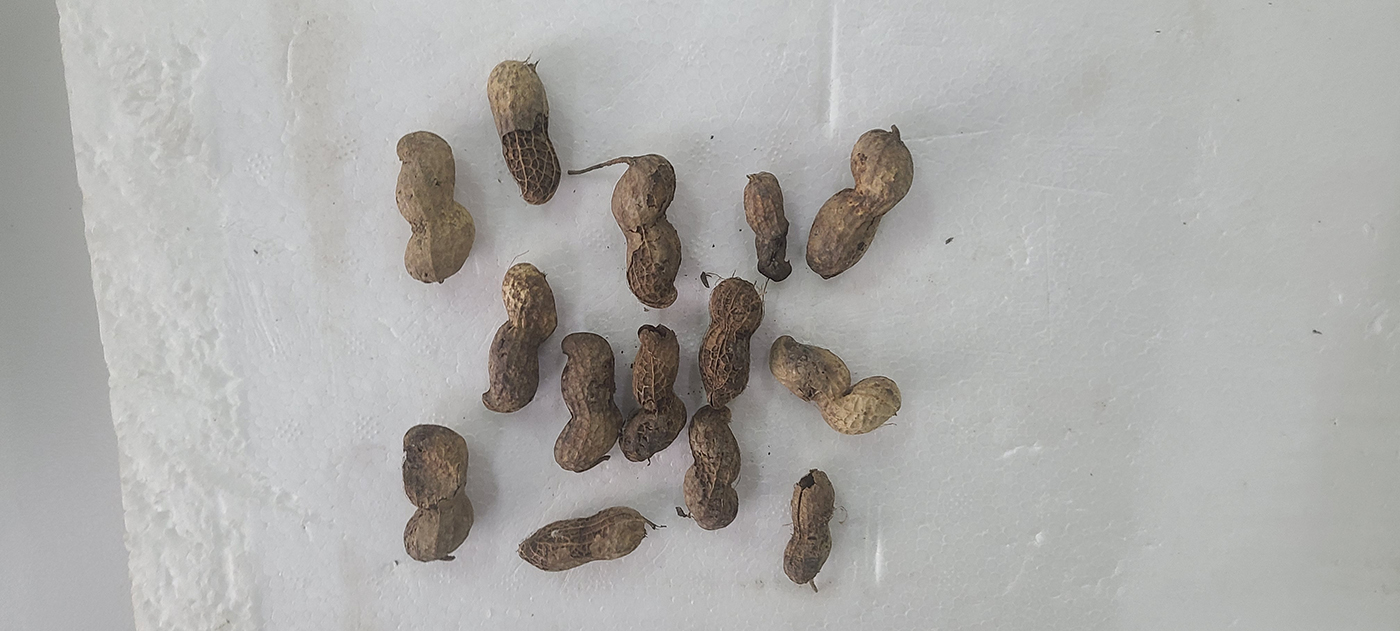l: (807, 129, 914, 281), (768, 334, 899, 434), (395, 130, 476, 282), (482, 263, 557, 413), (487, 60, 562, 204), (611, 154, 681, 308), (403, 423, 472, 561), (555, 333, 624, 471), (618, 324, 686, 463), (696, 276, 764, 407), (518, 506, 645, 572), (683, 405, 743, 531), (783, 470, 836, 584), (743, 171, 794, 283)
